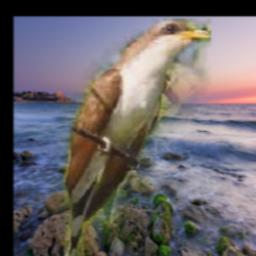Cuckoo: (33, 19, 212, 256)
